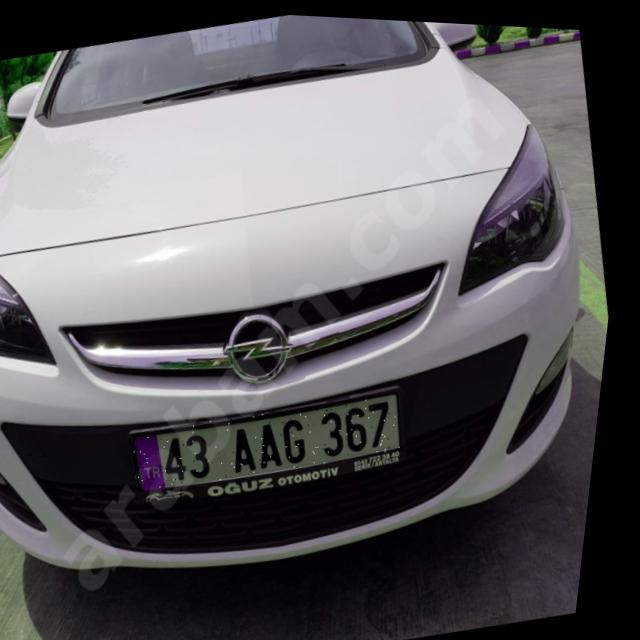license_plate: (136, 376, 419, 501)
